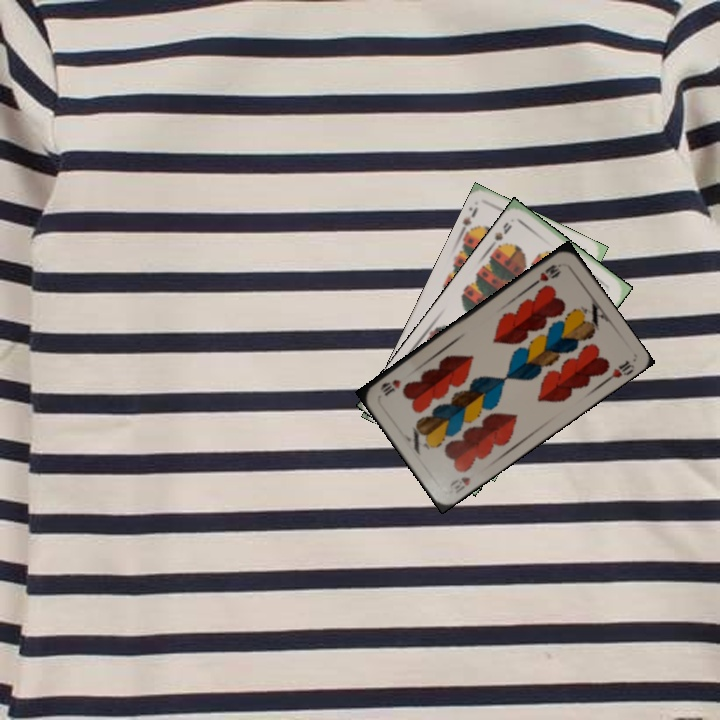H10: (529, 260, 564, 288), (445, 473, 473, 496)
S9: (486, 218, 514, 253), (455, 203, 481, 239)
